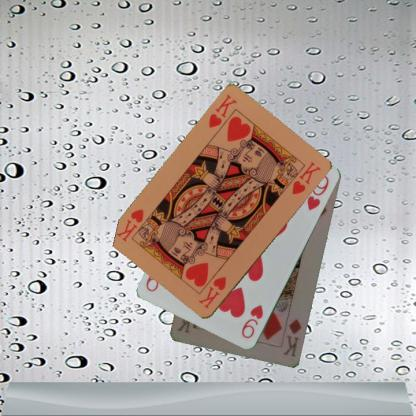9h: (238, 302, 264, 340)
Kd: (280, 316, 303, 358)
Kh: (206, 92, 238, 130), (195, 274, 228, 310)
